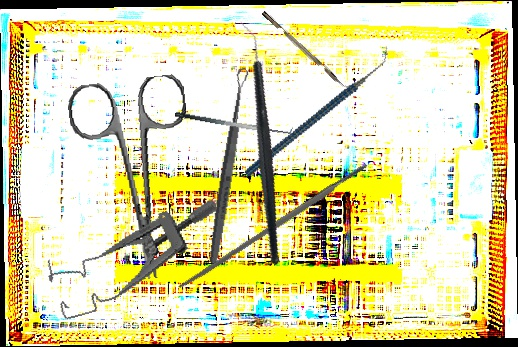Chopper: (181, 20, 338, 266), (221, 46, 413, 177), (261, 6, 353, 93)
Iris Scissors: (65, 73, 207, 286)
Scalpel Handle: (176, 161, 372, 292)
Spatula Surgical: (174, 101, 294, 141)
Speculum: (39, 197, 236, 322)
Surgical Spoon: (206, 67, 251, 265)
